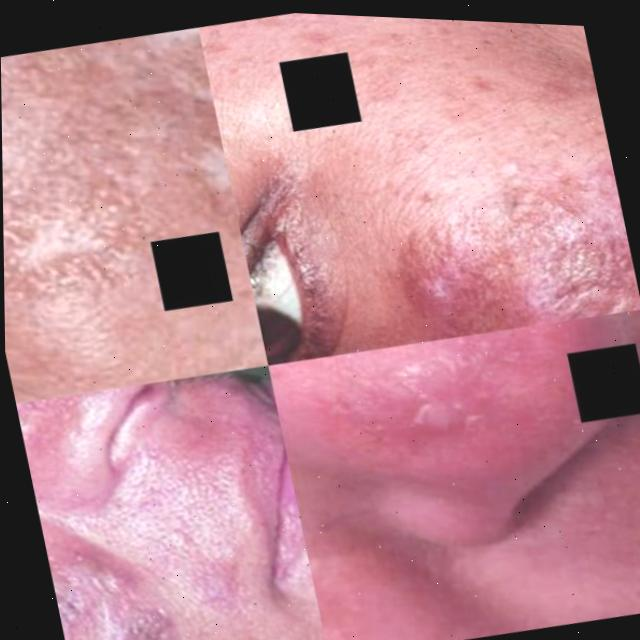lupus-detected: (0, 18, 268, 414), (267, 303, 631, 584), (297, 98, 640, 367), (16, 370, 222, 608), (41, 498, 238, 640)
